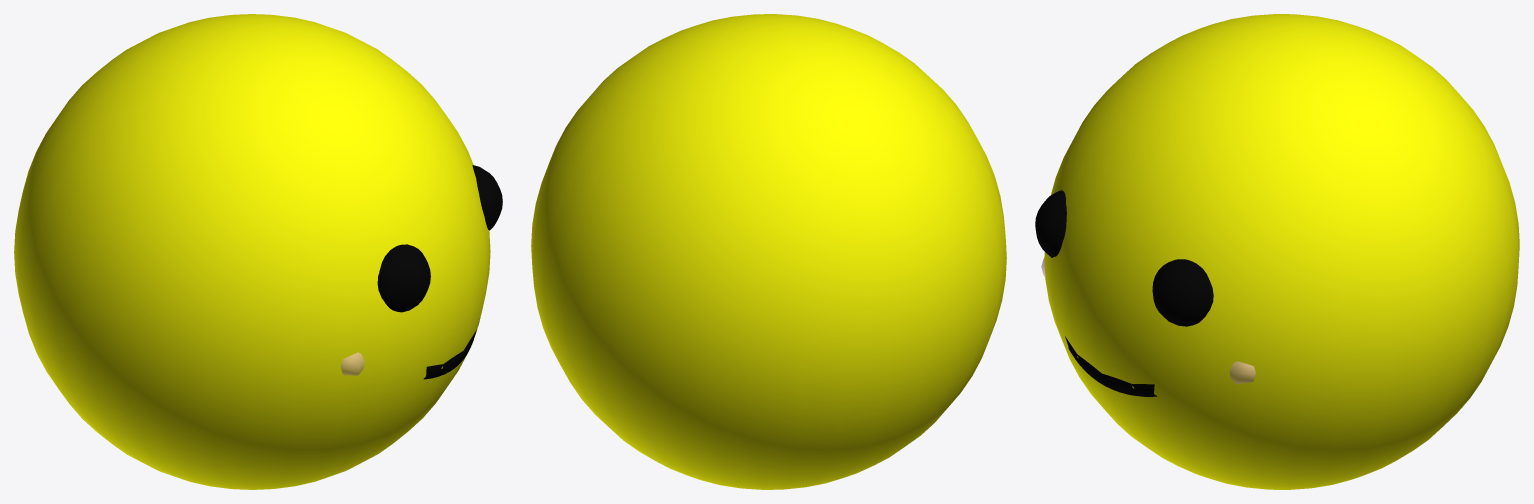
File: happyface.glb
3 views of the same model, side by side, from view 1: azimuth 30°, elevation 25°; view 2: azimuth 150°, elevation 25°; view 3: azimuth 270°, elevation 25° (orthographic).
Size of the model in its own units: 0.9977 by 1 by 1.02.
